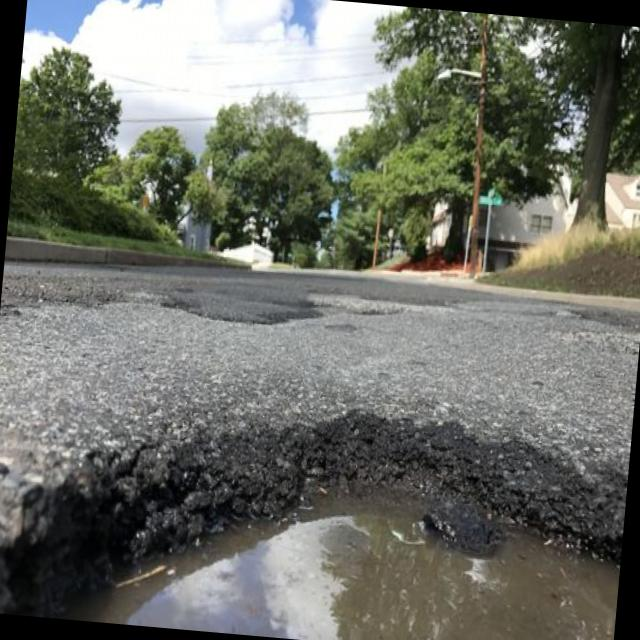Potholes: (0, 373, 632, 640)
